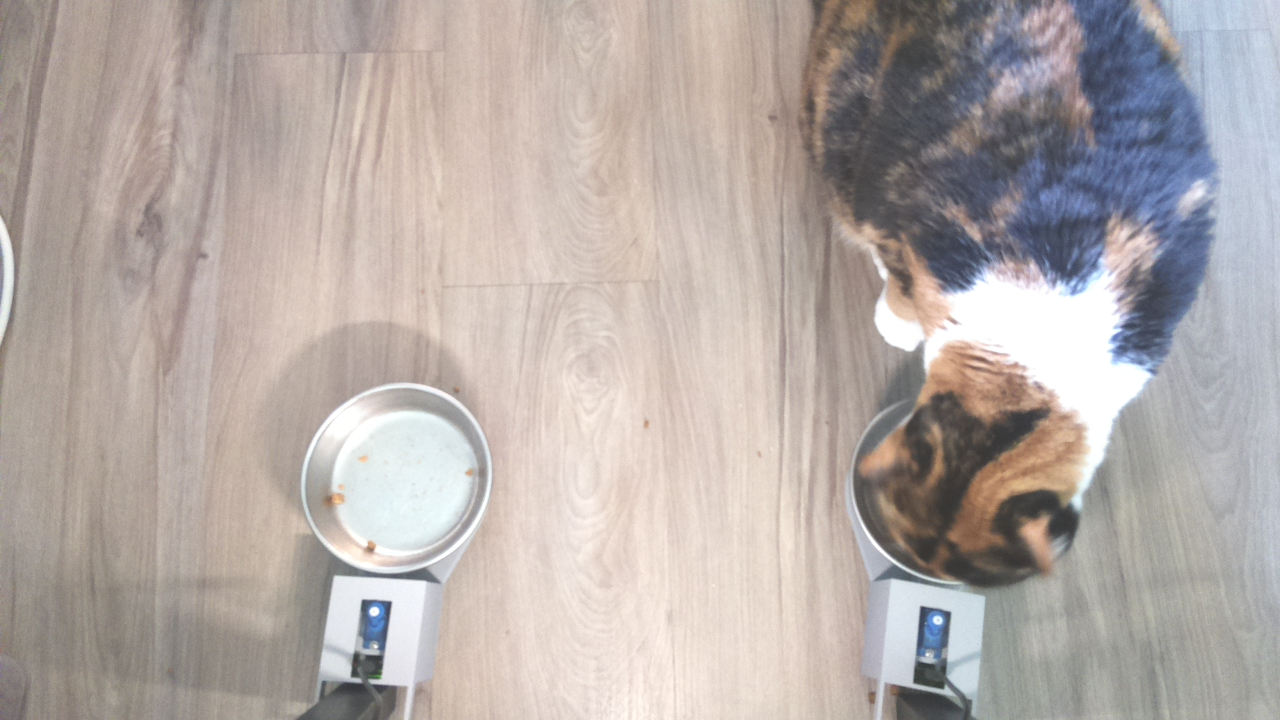bella_eating: (840, 303, 1113, 604)
open_bowl: (295, 377, 495, 576)
